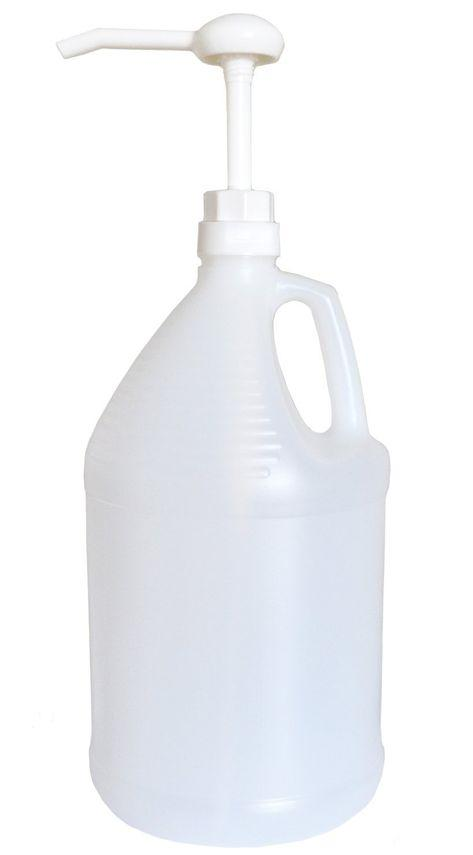HDPE: (0, 0, 455, 855)
